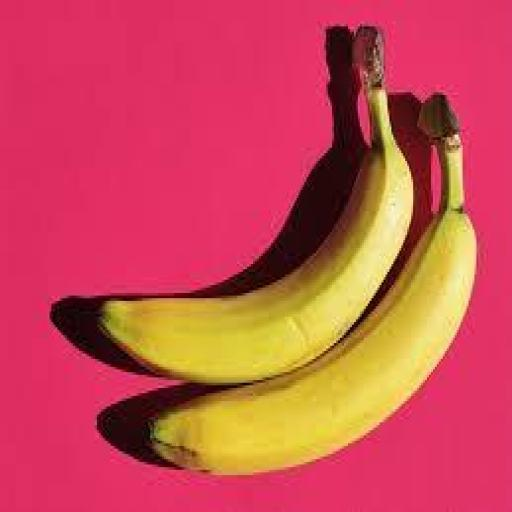banana: (153, 96, 476, 475), (99, 30, 413, 382)
